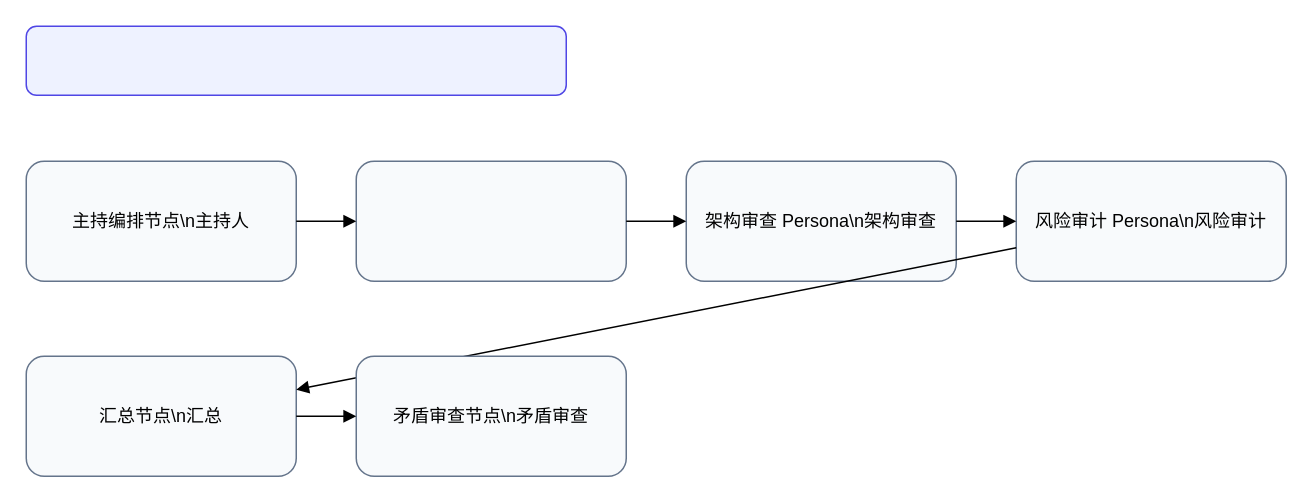
Some shapes in this 1313 by 503 pixel diagram are drawn without their labels. Here are the shapes that lost their labels. From the top down, the box of each, then its label:
(25, 25, 566, 95): UX-09 Workflow Blueprint
(355, 160, 626, 281): 产品策略 Persona\n产品策略
